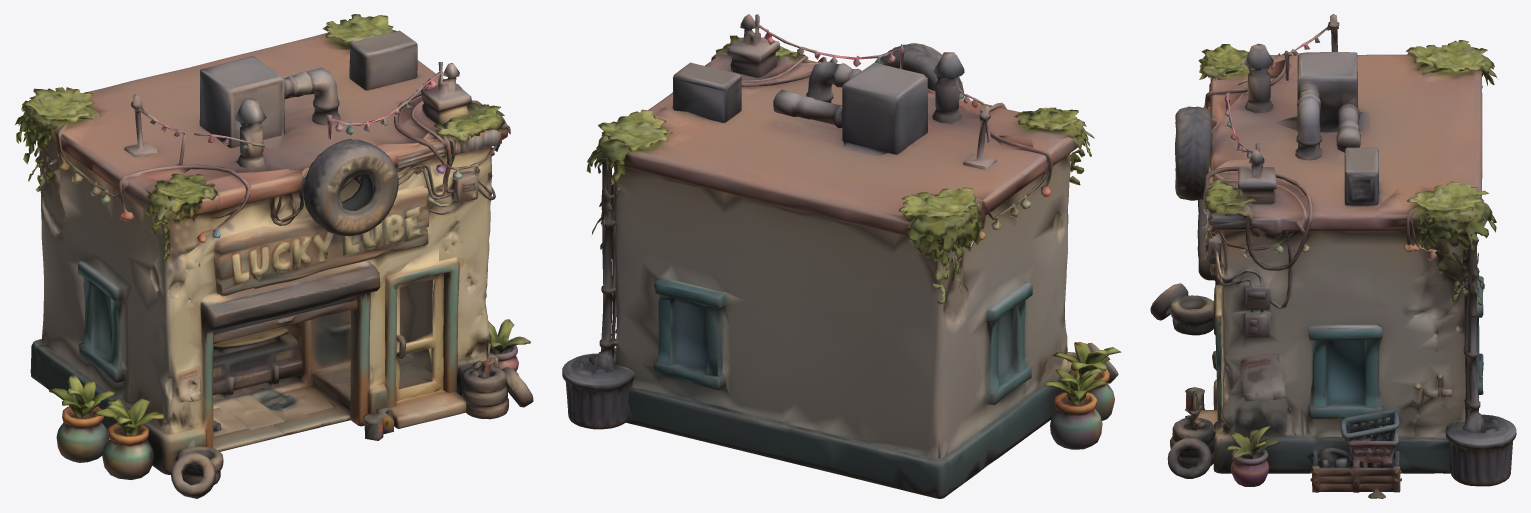
The model's file is store_mechanic.glb.
3 renders of one model, left to right at view 1: azimuth 30°, elevation 25°; view 2: azimuth 150°, elevation 25°; view 3: azimuth 270°, elevation 25°, orthographic. The views are drawn at different scales.
Parts seen in each view (by area): view 1: tripo_part_0, tripo_part_16, tripo_part_2, tripo_part_10, tripo_part_17, tripo_part_20, tripo_part_27, tripo_part_1, tripo_part_13, tripo_part_22, tripo_part_19, tripo_part_15 (+5 smaller); view 2: tripo_part_0, tripo_part_16, tripo_part_4, tripo_part_17, tripo_part_27, tripo_part_22, tripo_part_9, tripo_part_23, tripo_part_20, tripo_part_19, tripo_part_2, tripo_part_26; view 3: tripo_part_0, tripo_part_30, tripo_part_16, tripo_part_4, tripo_part_2, tripo_part_9, tripo_part_3, tripo_part_1, tripo_part_15, tripo_part_27, tripo_part_22, tripo_part_14 (+7 smaller).
Boxes of the visible parts, left/top/right/bottom form: tripo_part_0: left=15, top=14, right=510, bottom=474; tripo_part_16: left=199, top=56, right=340, bottom=149; tripo_part_2: left=299, top=139, right=398, bottom=236; tripo_part_10: left=385, top=246, right=459, bottom=407; tripo_part_17: left=49, top=374, right=116, bottom=462; tripo_part_20: left=95, top=398, right=164, bottom=479; tripo_part_27: left=349, top=30, right=417, bottom=90; tripo_part_1: left=461, top=343, right=533, bottom=419; tripo_part_13: left=395, top=273, right=443, bottom=400; tripo_part_22: left=327, top=62, right=471, bottom=139; tripo_part_19: left=49, top=131, right=250, bottom=243; tripo_part_15: left=171, top=438, right=223, bottom=498; tripo_part_0: left=586, top=35, right=1094, bottom=498; tripo_part_16: left=773, top=61, right=927, bottom=156; tripo_part_4: left=562, top=348, right=634, bottom=429; tripo_part_17: left=1044, top=368, right=1107, bottom=449; tripo_part_27: left=672, top=62, right=741, bottom=122; tripo_part_22: left=727, top=14, right=904, bottom=77; tripo_part_9: left=589, top=161, right=617, bottom=369; tripo_part_23: left=932, top=52, right=983, bottom=123; tripo_part_20: left=1052, top=342, right=1121, bottom=420; tripo_part_19: left=970, top=102, right=1052, bottom=250; tripo_part_2: left=880, top=43, right=963, bottom=96; tripo_part_26: left=963, top=104, right=996, bottom=169; tripo_part_0: left=1195, top=40, right=1497, bottom=492; tripo_part_30: left=1308, top=325, right=1383, bottom=418; tripo_part_16: left=1273, top=52, right=1370, bottom=160; tripo_part_4: left=1445, top=404, right=1516, bottom=486; tripo_part_2: left=1175, top=106, right=1212, bottom=200; tripo_part_9: left=1450, top=233, right=1484, bottom=432; tripo_part_3: left=1335, top=409, right=1399, bottom=467; tripo_part_1: left=1167, top=405, right=1216, bottom=478; tripo_part_15: left=1150, top=283, right=1213, bottom=335; tripo_part_27: left=1344, top=147, right=1378, bottom=205; tripo_part_22: left=1224, top=92, right=1276, bottom=204; tripo_part_14: left=1225, top=426, right=1279, bottom=486.
Size of the model in its own units: 0.9804 by 0.6958 by 0.7141.
Materials: 1 (1 with a texture image).
